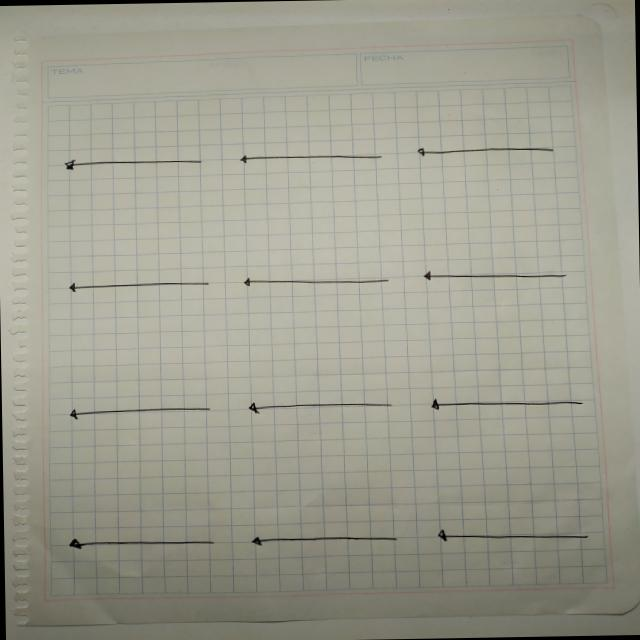arrow_line_left: (48, 146, 208, 184), (416, 391, 595, 424), (60, 526, 218, 562), (407, 260, 578, 293), (240, 524, 404, 558), (421, 522, 602, 552), (236, 394, 404, 426), (406, 138, 566, 171), (227, 144, 390, 175), (230, 265, 393, 296), (60, 398, 220, 428), (56, 269, 218, 297)
